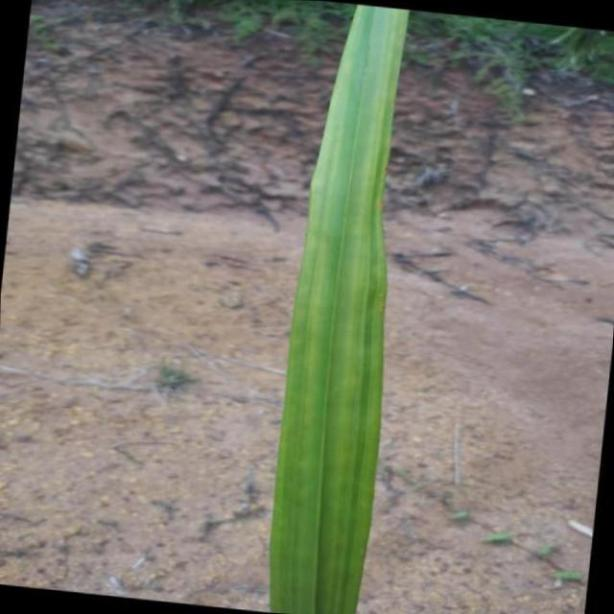nitrogen: (267, 5, 411, 614)
